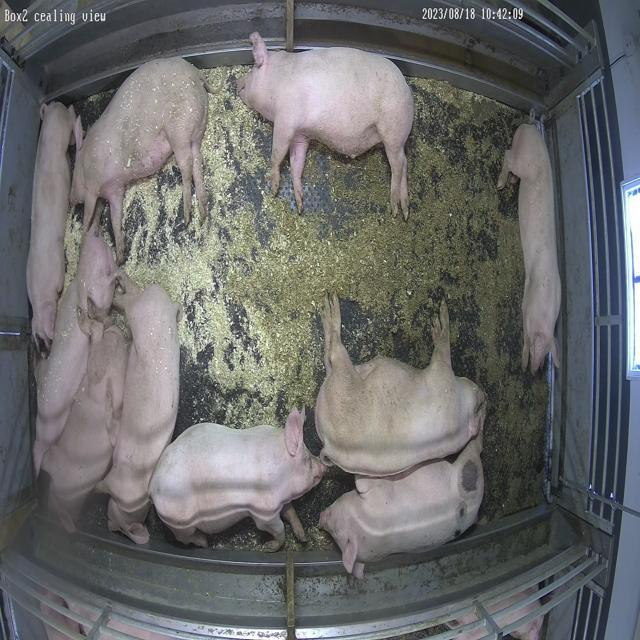Dirt: (233, 79, 546, 518)
Pig: (238, 33, 415, 218), (316, 293, 486, 478), (71, 57, 207, 262), (150, 410, 326, 552), (320, 434, 485, 578), (97, 285, 179, 545), (33, 224, 116, 472), (41, 323, 127, 532), (499, 124, 563, 374), (26, 102, 76, 346)
